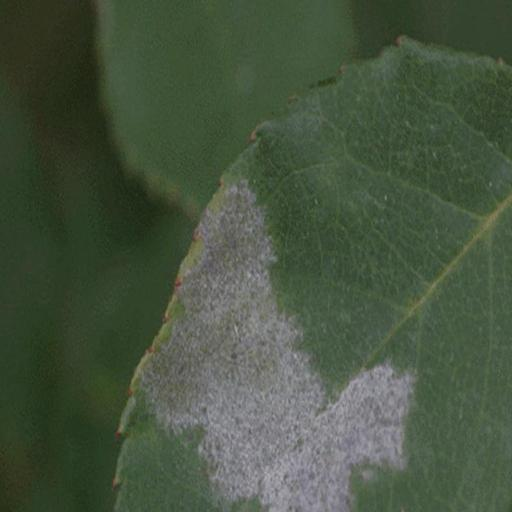powdery_mildew: (114, 38, 512, 512)
